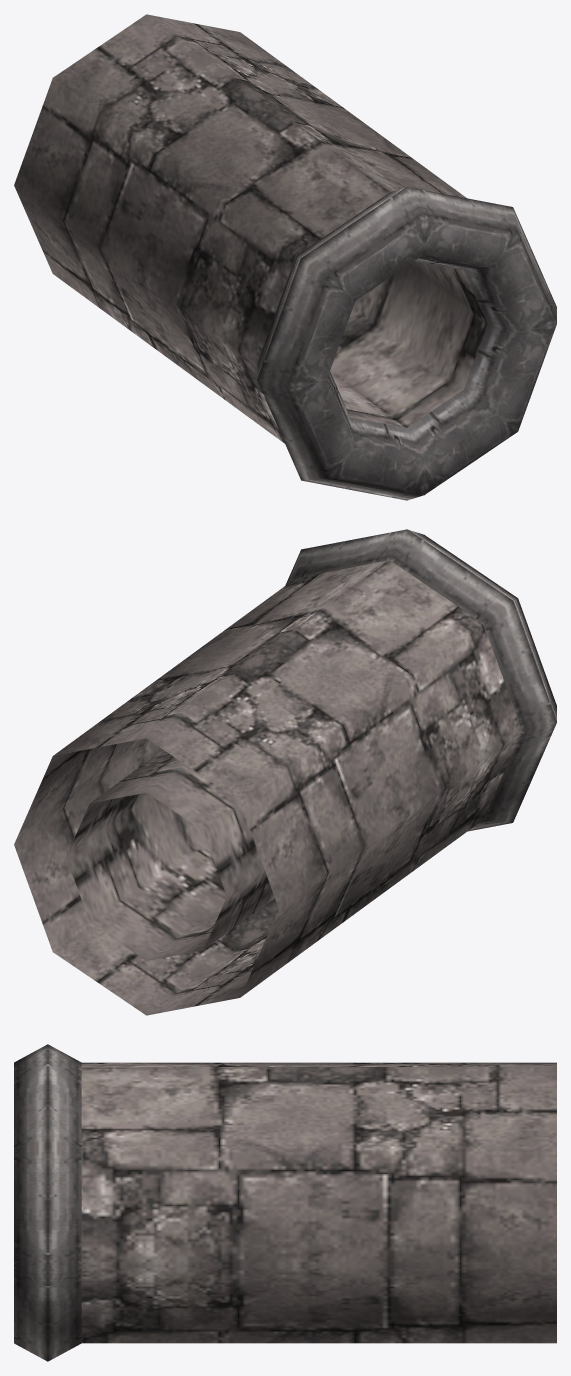
Rendered from 10405_magma03.FBX.
3 renders of one model, top to bottom at view 1: azimuth 30°, elevation 25°; view 2: azimuth 150°, elevation 25°; view 3: azimuth 270°, elevation 25°, orthographic. The views are drawn at different scales.
Parts seen in each view (by area): view 1: 10405_magma03; view 2: 10405_magma03; view 3: 10405_magma03.
Part boxes in pixels (bbox=[...]): 10405_magma03: bbox=[14, 14, 556, 500]; 10405_magma03: bbox=[14, 529, 556, 1015]; 10405_magma03: bbox=[14, 1044, 556, 1361].
Bounding box in the file's own units: 241 × 241 × 387.
